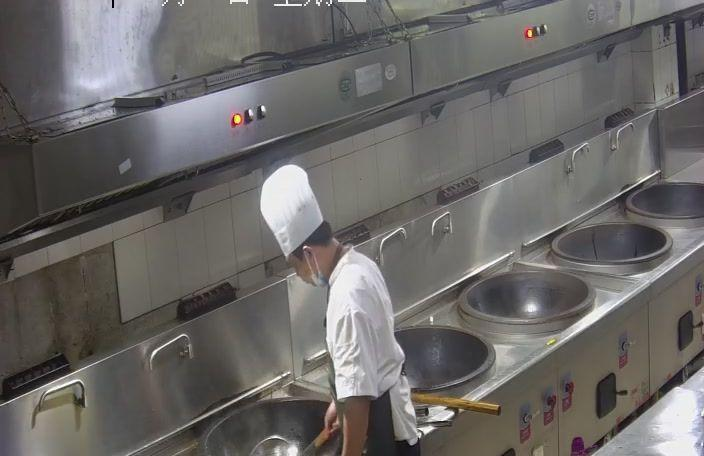mask: (286, 247, 326, 290)
